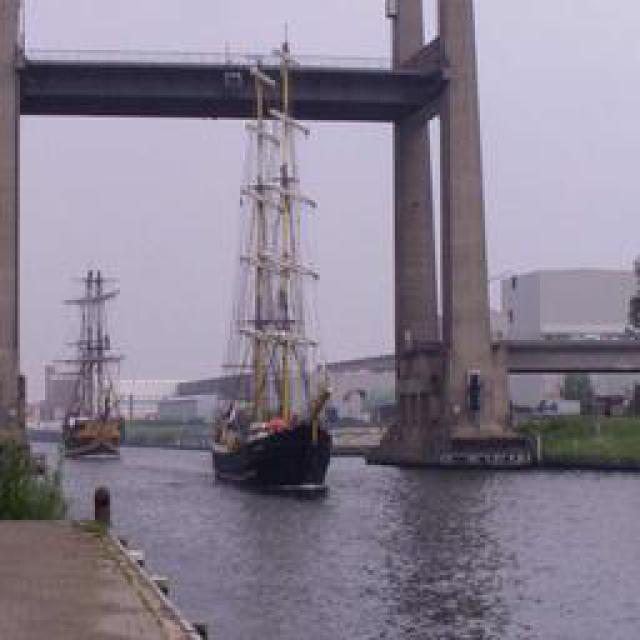Ship: (208, 98, 336, 493)
